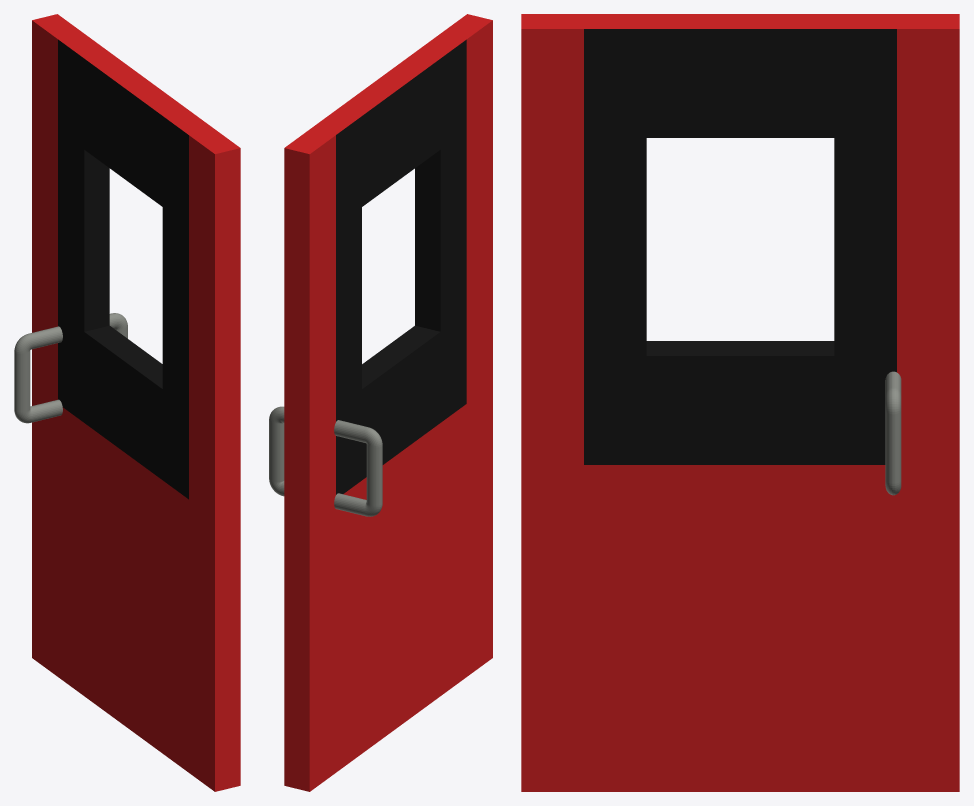
Rendered from puerta_ext_1.obj.
3 views of the same model, side by side, from view 1: azimuth 30°, elevation 25°; view 2: azimuth 150°, elevation 25°; view 3: azimuth 270°, elevation 25° (orthographic). The views are drawn at different scales.
Parts seen in each view (by area): view 1: Cubo.020_Cubo.022; view 2: Cubo.020_Cubo.022; view 3: Cubo.020_Cubo.022.
Part boxes in pixels (x1=…): Cubo.020_Cubo.022: x1=14, y1=14, x2=240, y2=791; Cubo.020_Cubo.022: x1=269, y1=14, x2=492, y2=791; Cubo.020_Cubo.022: x1=521, y1=14, x2=959, y2=791.
Size of the model in its own units: 0.4385 by 2.38 by 1.24.
